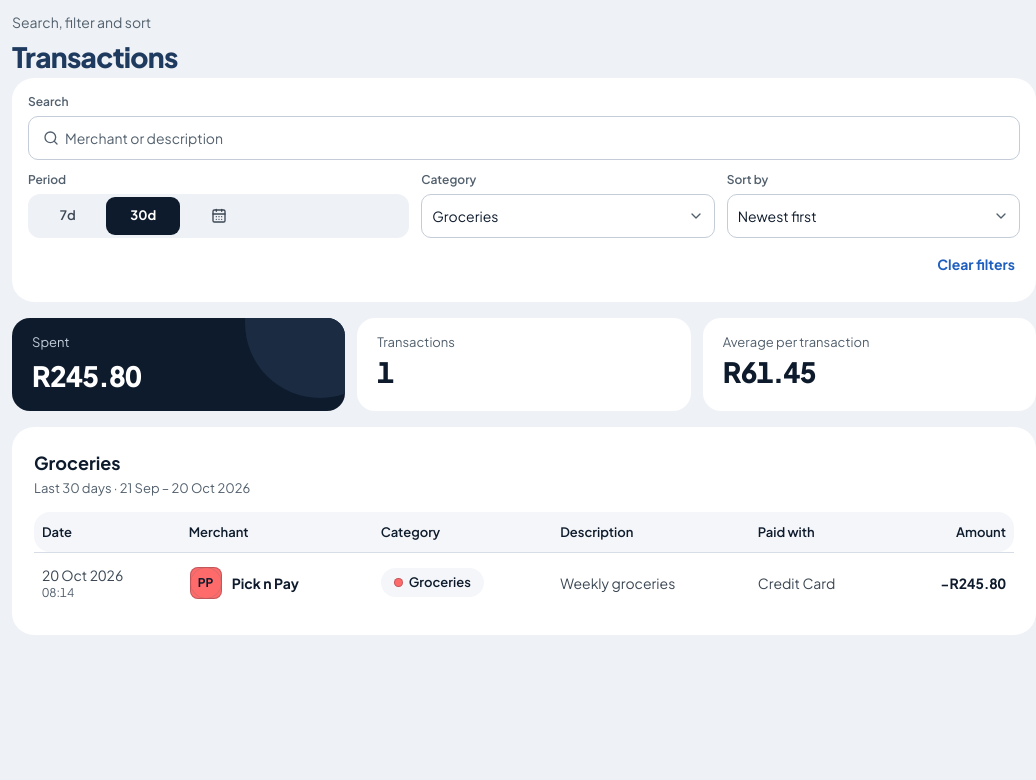
Test: TransactionsExplorer search › drops a half-typed search when filters are cleared
The width and height of the screenshot is (1036, 780).
In the search field: (539, 138) [59, 117, 1019, 159], type "xyz"
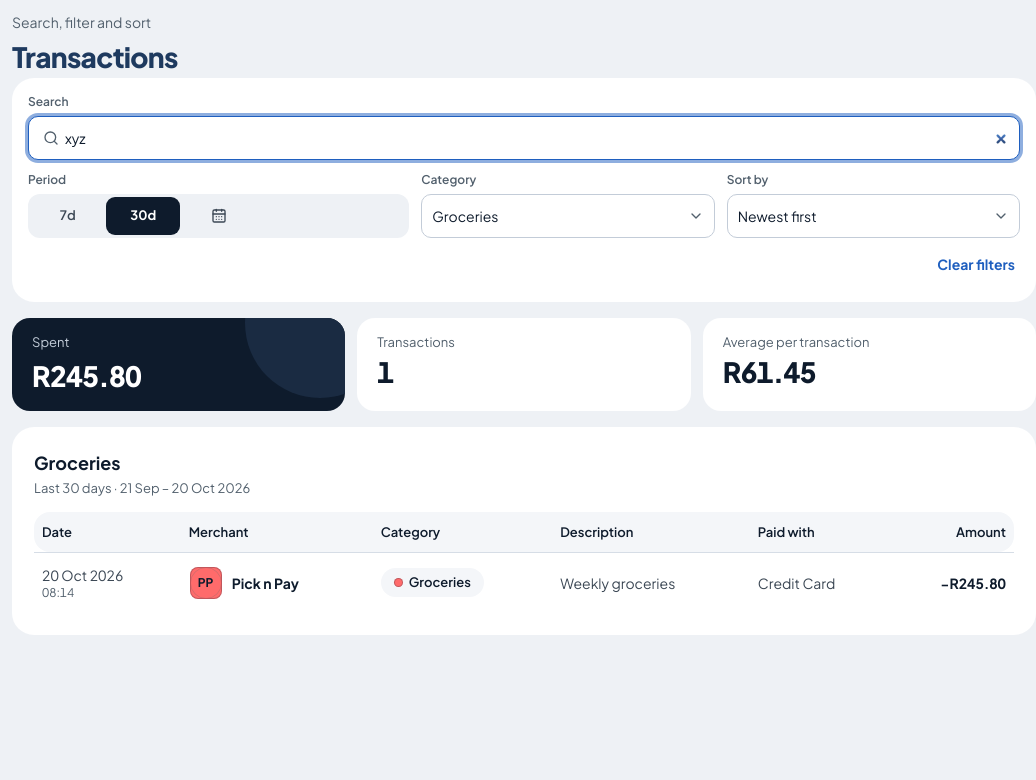
Click the button "Clear filters": (976, 264) [932, 242, 1020, 286]
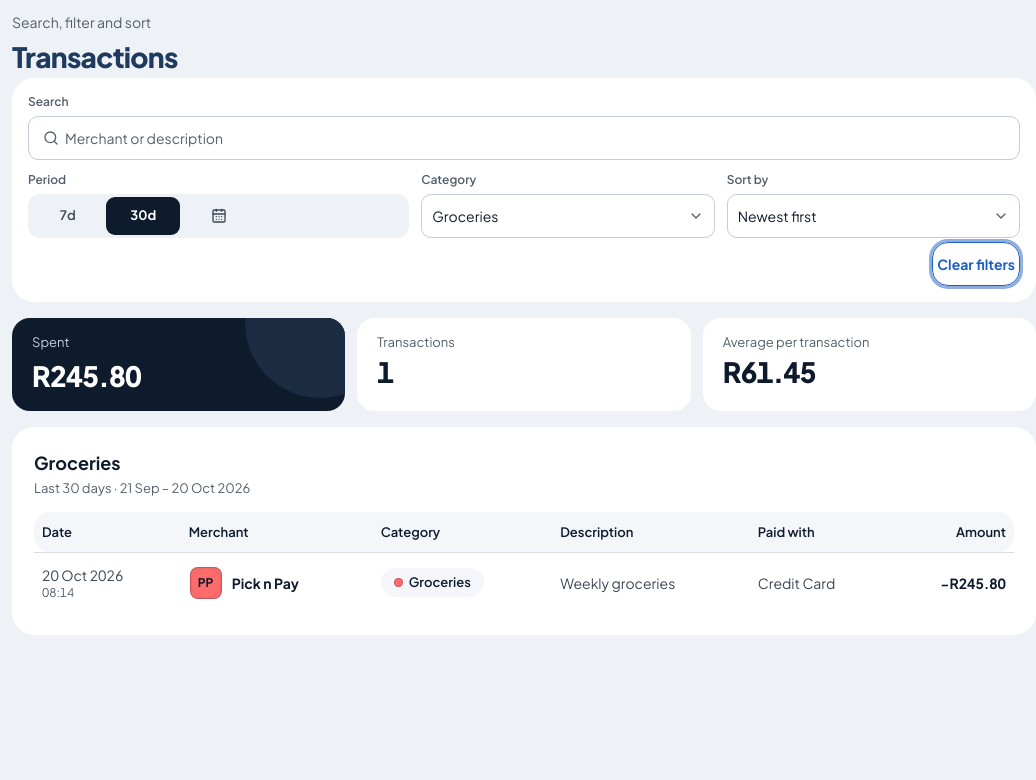
Result: the search field is empty at [59, 117, 1019, 159]
